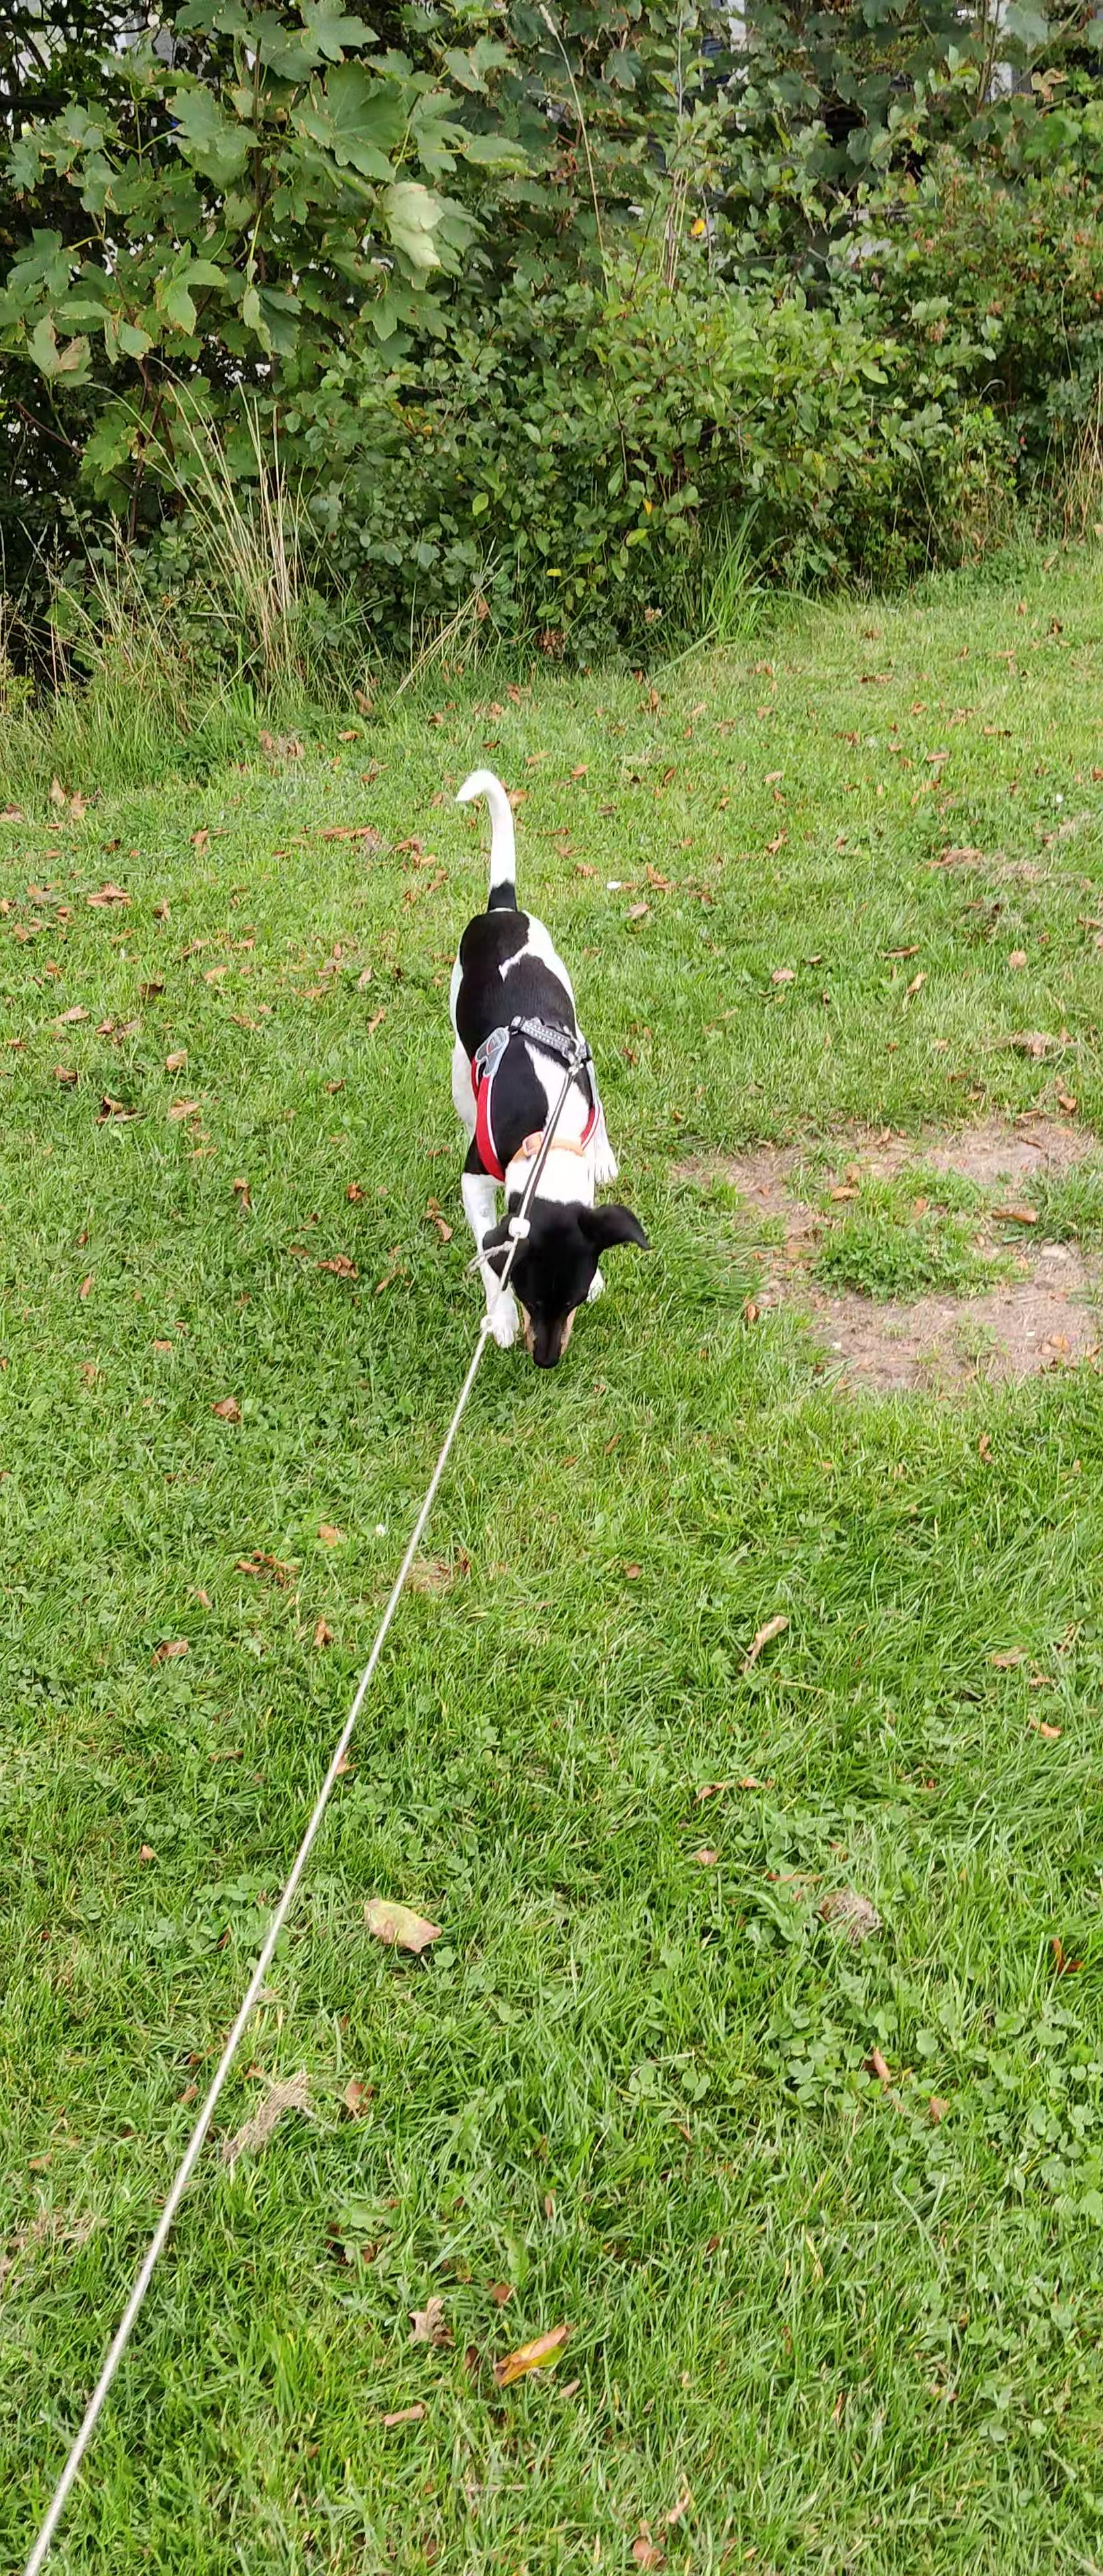Dog: (427, 766, 653, 1375)
